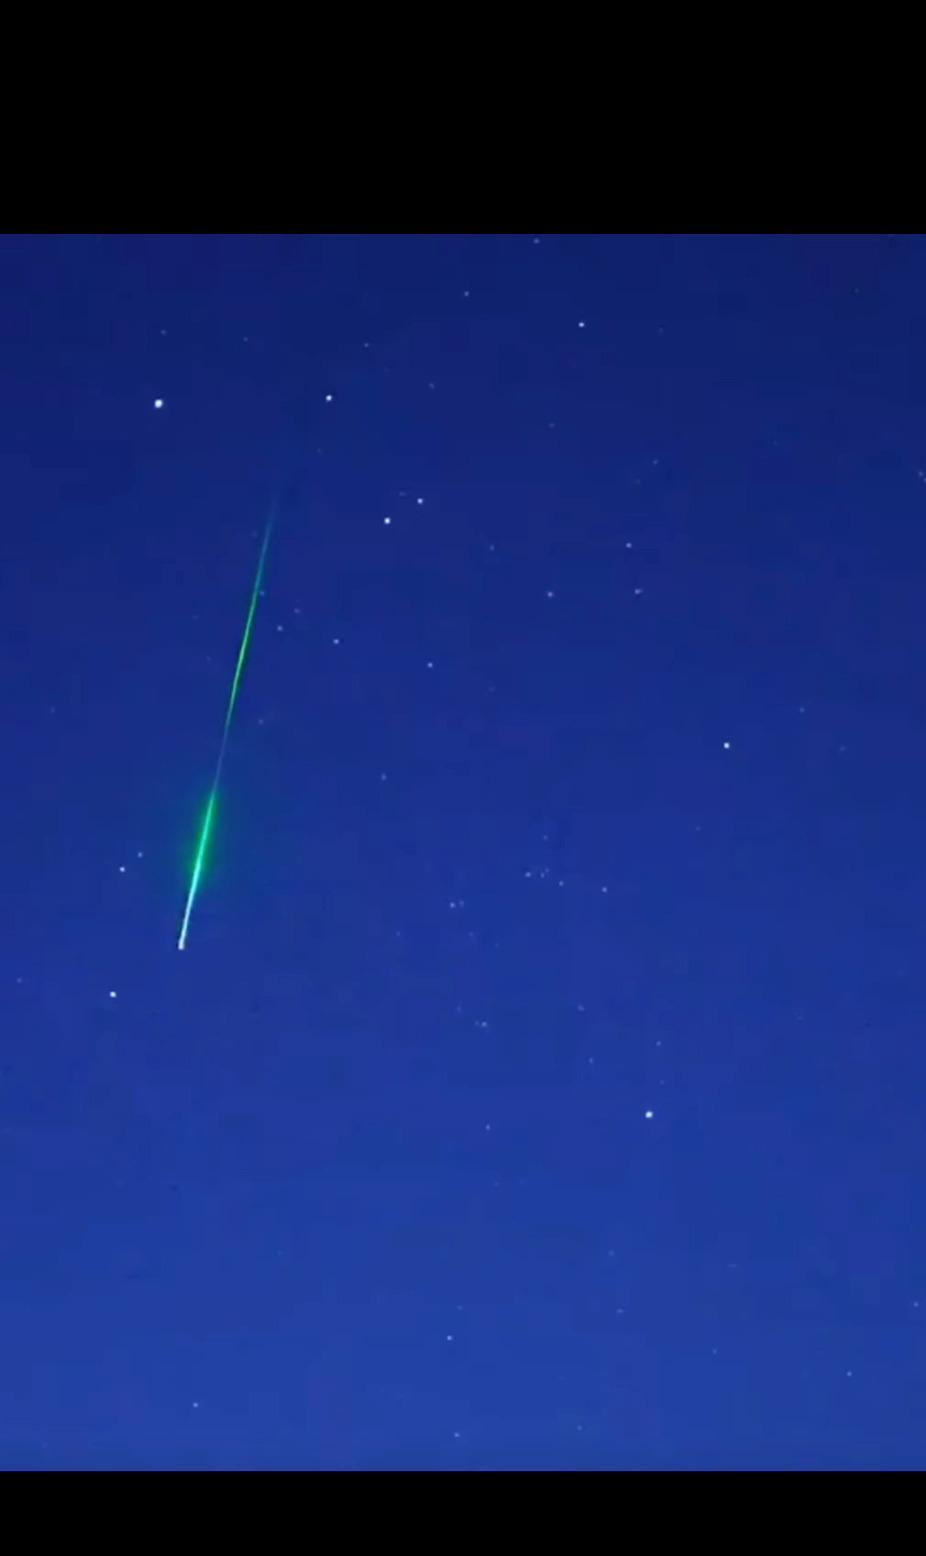meteorite: (161, 471, 304, 983)
